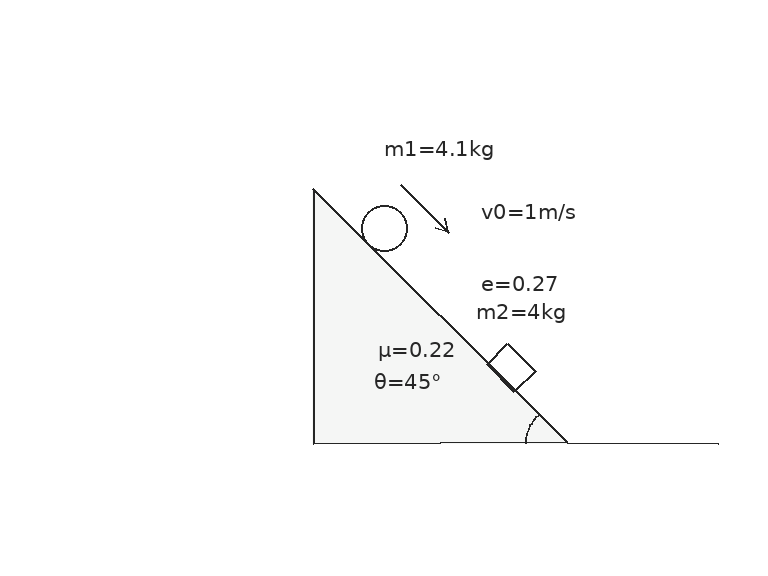ball: (359, 203, 409, 253)
block: (485, 341, 537, 393)
ramp: (311, 188, 568, 445)
